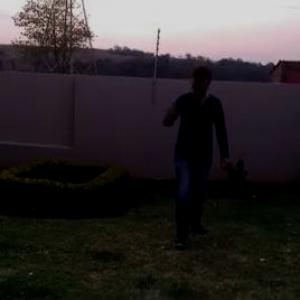takeoff-hand: (156, 96, 183, 133)
